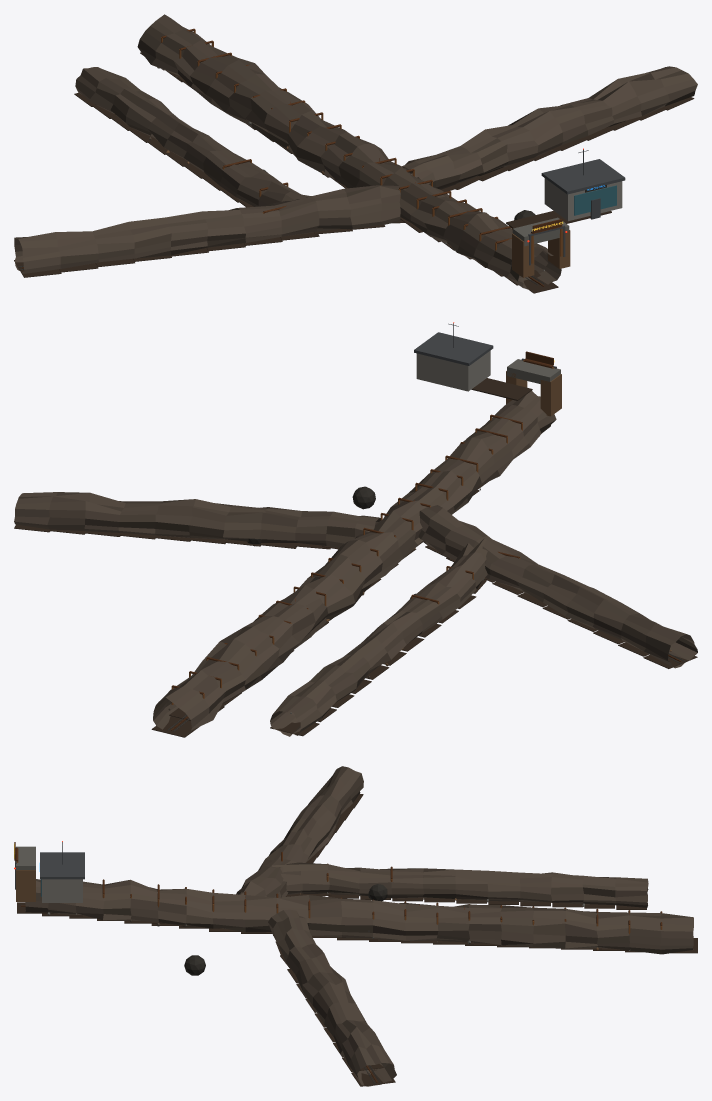
Rendered from mine.glb.
The picture shows the model from 3 angles, top to bottom: view 1: azimuth 30°, elevation 25°; view 2: azimuth 150°, elevation 25°; view 3: azimuth 270°, elevation 25°; orthographic projection. The views are drawn at different scales.
Parts seen in each view (by area): view 1: MAIN_TUNNEL_WALLS, LEFT_TUNNEL_WALLS, RIGHT_TUNNEL_WALLS, DEEP_LEFT_TUNNEL_WALLS, SERVER_ROOM_ROOF, SURFACE_SERVER_ROOM, SERVER_ROOM_GLASS, MAIN_ENTRANCE_LEFT_ROCK, MAIN_ENTRANCE_ROCK_TOP, MAIN_ENTRANCE_RIGHT_ROCK, SERVER_ACCESS_ROAD; view 2: MAIN_TUNNEL_WALLS, RIGHT_TUNNEL_WALLS, LEFT_TUNNEL_WALLS, DEEP_LEFT_TUNNEL_WALLS, SURFACE_SERVER_ROOM, SERVER_ROOM_ROOF, MAIN_ENTRANCE_ROCK_TOP, SERVER_ACCESS_ROAD, MAIN_ENTRANCE_LEFT_ROCK; view 3: MAIN_TUNNEL_WALLS, DEEP_LEFT_TUNNEL_WALLS, RIGHT_TUNNEL_WALLS, LEFT_TUNNEL_WALLS, SERVER_ROOM_ROOF, SURFACE_SERVER_ROOM, MAIN_ENTRANCE_RIGHT_ROCK.
Part boxes in pixels (x1,y1,x2,y2): MAIN_TUNNEL_WALLS: [137, 14, 561, 289]; LEFT_TUNNEL_WALLS: [14, 185, 400, 273]; RIGHT_TUNNEL_WALLS: [401, 66, 697, 189]; DEEP_LEFT_TUNNEL_WALLS: [75, 67, 312, 206]; SERVER_ROOM_ROOF: [541, 159, 625, 194]; SURFACE_SERVER_ROOM: [544, 178, 622, 221]; SERVER_ROOM_GLASS: [574, 185, 616, 215]; MAIN_ENTRANCE_LEFT_ROCK: [512, 233, 534, 277]; MAIN_ENTRANCE_ROCK_TOP: [512, 217, 569, 246]; MAIN_ENTRANCE_RIGHT_ROCK: [548, 230, 570, 268]; SERVER_ACCESS_ROAD: [506, 210, 611, 228]; MAIN_TUNNEL_WALLS: [153, 391, 556, 734]; RIGHT_TUNNEL_WALLS: [14, 492, 380, 547]; LEFT_TUNNEL_WALLS: [418, 505, 697, 668]; DEEP_LEFT_TUNNEL_WALLS: [270, 538, 487, 736]; SURFACE_SERVER_ROOM: [416, 350, 490, 391]; SERVER_ROOM_ROOF: [414, 332, 493, 365]; MAIN_ENTRANCE_ROCK_TOP: [507, 359, 560, 383]; SERVER_ACCESS_ROAD: [471, 378, 532, 400]; MAIN_ENTRANCE_LEFT_ROCK: [540, 374, 561, 416]; MAIN_TUNNEL_WALLS: [25, 879, 693, 954]; DEEP_LEFT_TUNNEL_WALLS: [272, 862, 648, 907]; RIGHT_TUNNEL_WALLS: [268, 909, 396, 1086]; LEFT_TUNNEL_WALLS: [236, 766, 363, 897]; SERVER_ROOM_ROOF: [40, 852, 84, 879]; SURFACE_SERVER_ROOM: [42, 879, 82, 902]; MAIN_ENTRANCE_RIGHT_ROCK: [16, 870, 35, 901].
Size of the model in its own units: 153 by 32.48 by 150.
